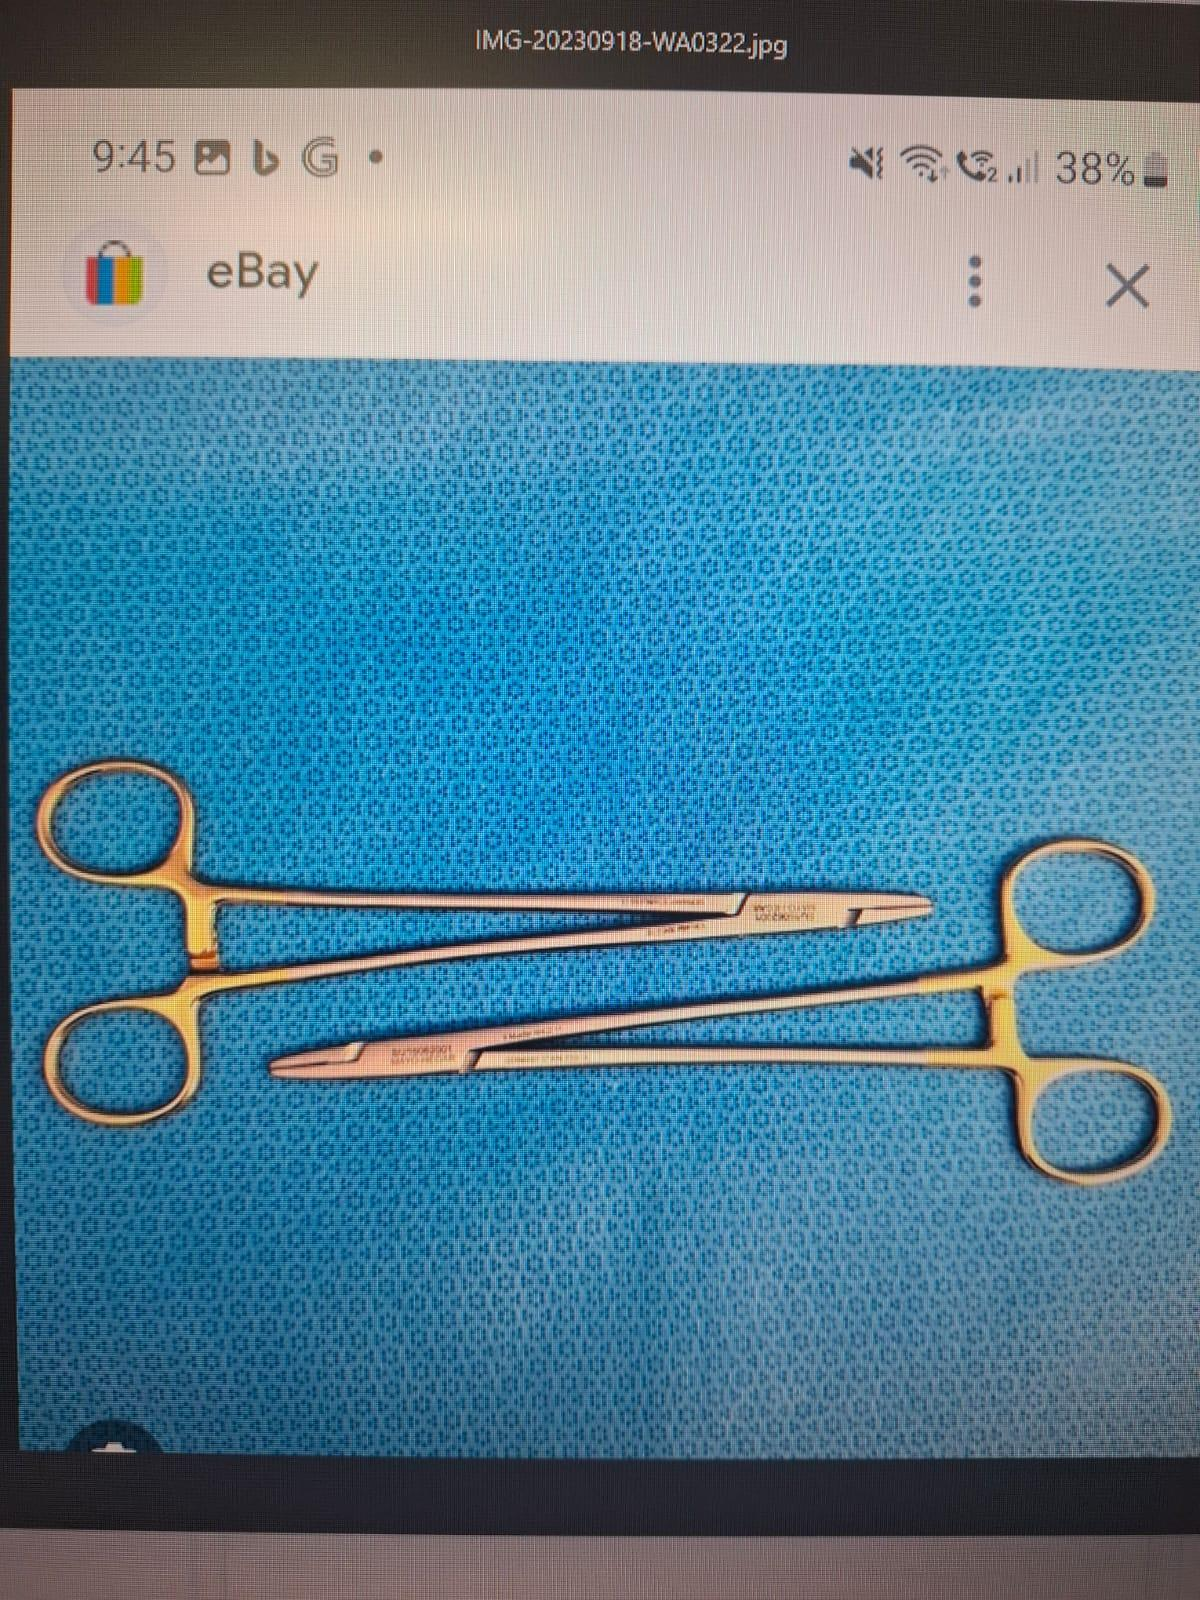Needle Holder: (25, 740, 943, 1135), (257, 835, 1180, 1183)
